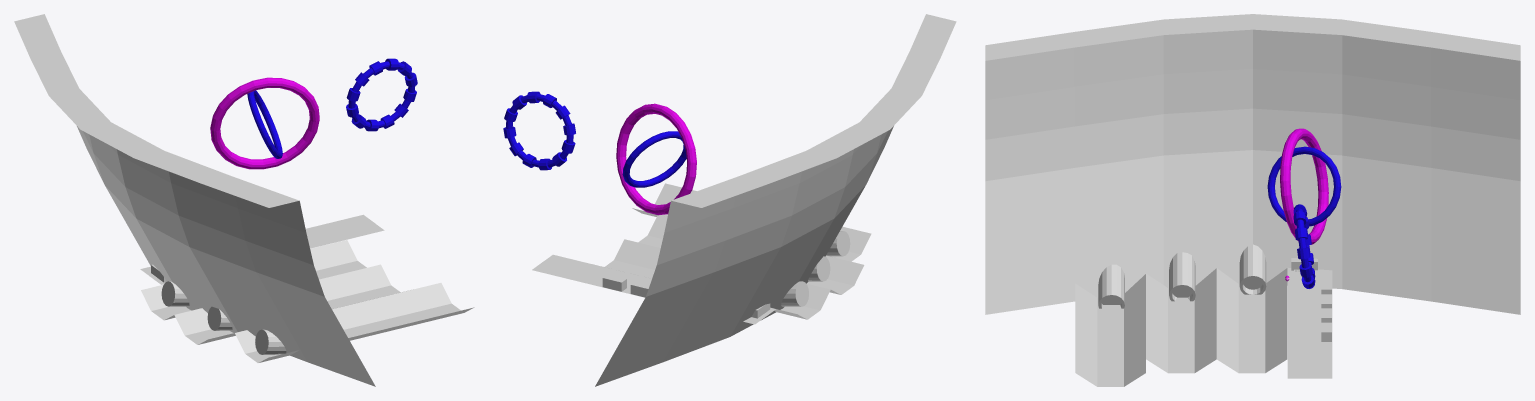
File: damTest.glb
The picture shows the model from 3 angles, left to right: view 1: azimuth 30°, elevation 25°; view 2: azimuth 150°, elevation 25°; view 3: azimuth 270°, elevation 25°; orthographic projection. The views are drawn at different scales.
Visible parts, largest first — view 1: dam nocol, damSpillway.002-col, damSpillway.001-col, AbominableTorusOfIgnorance, damSpillway-col, AbominableTorusOfIgnorance.002, AbominableTorusOfIgnorance.001, roadSidewalk-convcol, road-convcol, damOutflowPipe.002-col, damOutflowPipe-convcol, damOutflowPipe.001-convcol; view 2: dam nocol, AbominableTorusOfIgnorance, damSpillway-col, AbominableTorusOfIgnorance.002, damSpillway.001-col, AbominableTorusOfIgnorance.001, roadSidewalk-convcol, damSpillway.002-col, road-convcol, damOutflowPipe-convcol, damOutflowPipe.002-col, damOutflowPipe.001-convcol; view 3: dam nocol, damSpillway.002-col, damSpillway-col, damSpillway.001-col, roadSidewalk-convcol, AbominableTorusOfIgnorance, road-convcol, AbominableTorusOfIgnorance.001, damOutflowPipe-convcol, damOutflowPipe.001-convcol, AbominableTorusOfIgnorance.002, damOutflowPipe.002-col.
Part boxes in pixels (x1,y1,x2,y2): dam nocol: (14,14,375,386); damSpillway.002-col: (235,283,474,362); damSpillway.001-col: (174,264,400,344); AbominableTorusOfIgnorance: (210,77,319,169); damSpillway-col: (141,240,366,320); AbominableTorusOfIgnorance.002: (346,58,417,131); AbominableTorusOfIgnorance.001: (247,90,282,158); roadSidewalk-convcol: (140,214,375,278); road-convcol: (149,224,384,284); damOutflowPipe.002-col: (255,329,286,354); damOutflowPipe-convcol: (161,281,189,306); damOutflowPipe.001-convcol: (207,306,232,330); dam nocol: (595,14,956,386); AbominableTorusOfIgnorance: (616,103,696,215); damSpillway-col: (604,239,830,319); AbominableTorusOfIgnorance.002: (503,91,575,170); damSpillway.001-col: (638,215,864,294); AbominableTorusOfIgnorance.001: (622,131,686,187); roadSidewalk-convcol: (532,261,767,324); damSpillway.002-col: (632,183,871,261); road-convcol: (545,254,775,315); damOutflowPipe-convcol: (781,281,808,306); damOutflowPipe.002-col: (826,231,850,256); damOutflowPipe.001-convcol: (808,256,830,281); dam nocol: (985,14,1520,314); damSpillway.002-col: (1075,274,1145,386); damSpillway-col: (1216,268,1287,373); damSpillway.001-col: (1146,268,1216,373); roadSidewalk-convcol: (1305,269,1332,378); AbominableTorusOfIgnorance: (1280,128,1328,244); road-convcol: (1287,268,1305,378); AbominableTorusOfIgnorance.001: (1267,146,1341,226); damOutflowPipe-convcol: (1239,244,1266,294); damOutflowPipe.001-convcol: (1169,252,1195,301); AbominableTorusOfIgnorance.002: (1293,204,1315,288); damOutflowPipe.002-col: (1098,264,1124,308).
Size of what is drawn, in the model's own units: 817 by 460 by 1000.
